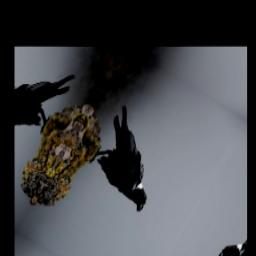Crow: (76, 100, 187, 216)
